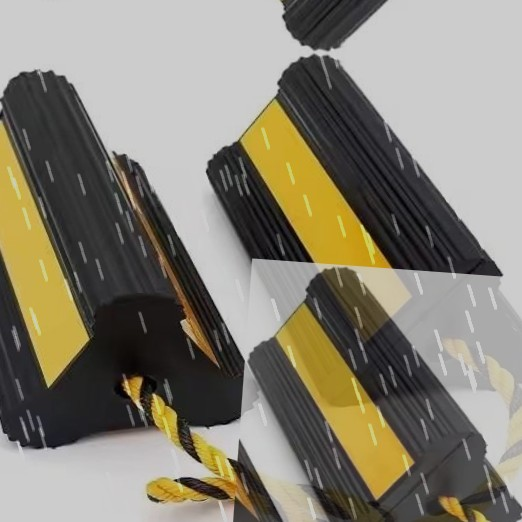chock: (186, 44, 522, 422), (0, 60, 283, 469), (232, 258, 522, 522)
